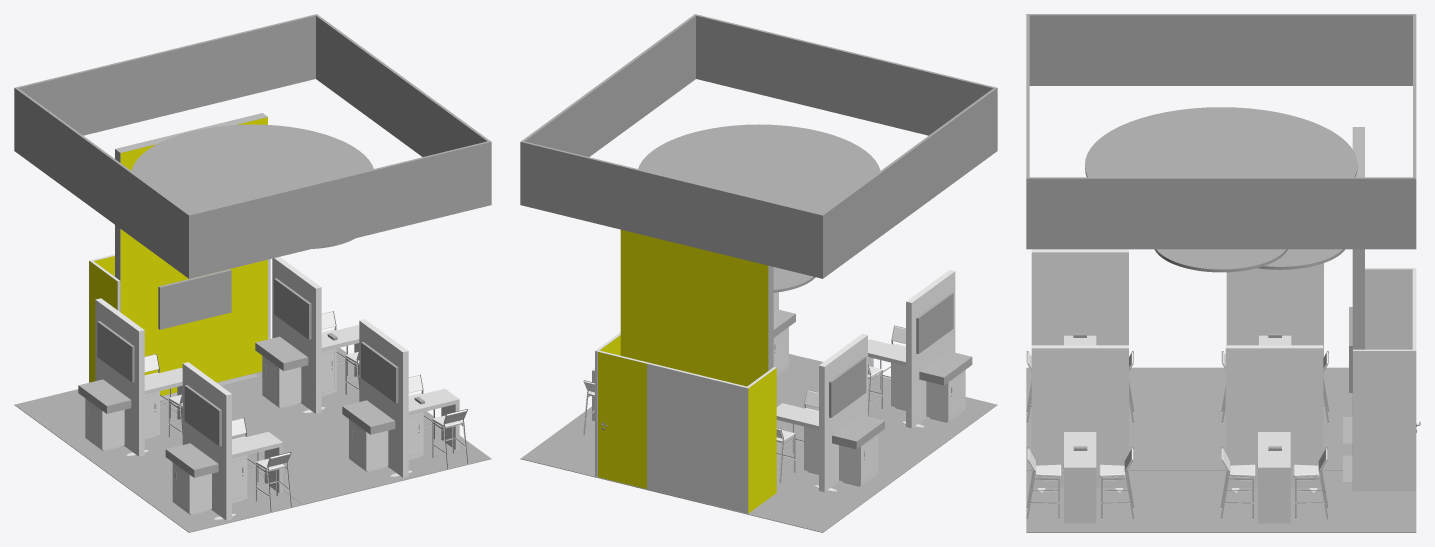
File: salsify20x20.glb
The picture shows the model from 3 angles, left to right: view 1: azimuth 30°, elevation 25°; view 2: azimuth 150°, elevation 25°; view 3: azimuth 270°, elevation 25°; orthographic projection. The views are drawn at different scales.
Visible parts, largest first — view 1: WRectangle001, Box01, Cylinder013, Box008, Box683, Box648, Box688, Box658, Box638, Box085, Box238, Box531 (+19 smaller); view 2: WRectangle001, Box008, Cylinder013, Box01, Box560, Box559, Box239, Box238, Box638, Box648, Box683, Box531 (+12 smaller); view 3: WRectangle001, Box01, Cylinder013, Box658, Box688, Box638, Box561, Box648, Box683, Box238, L-Ext005, L-Ext006 (+7 smaller).
Boxes of the visible parts, x1,y1,x2,y2 form: WRectangle001: (14,14,491,278); Box01: (14,347,491,532); Cylinder013: (131,124,373,213); Box008: (115,113,267,395); Box683: (161,382,377,504); Box648: (95,298,144,456); Box688: (359,319,408,477); Box658: (272,257,321,413); Box638: (182,362,231,520); Box085: (158,269,231,329); Box238: (89,260,120,382); Box531: (172,462,211,514); WRectangle001: (520,14,997,278); Box008: (620,229,773,386); Cylinder013: (638,124,880,213); Box01: (520,354,997,532); Box560: (647,362,697,500); Box559: (696,374,746,513); Box239: (598,350,648,488); Box238: (745,367,776,513); Box638: (906,270,955,428); Box648: (819,333,867,492); Box683: (634,358,883,504); Box531: (926,370,965,421); WRectangle001: (1026,14,1416,249); Box01: (1026,367,1416,532); Cylinder013: (1085,107,1357,177); Box658: (1225,345,1323,487); Box688: (1031,345,1128,487); Box638: (1031,249,1128,345); Box561: (1353,349,1416,491); Box648: (1226,263,1323,378); Box683: (1026,429,1352,470); Box238: (1365,268,1416,349); L-Ext005: (1258,432,1290,523); L-Ext006: (1064,432,1096,523).
Size of the model in its own units: 6.1 by 6.11 by 6.17.
22 materials, 4 textured.
